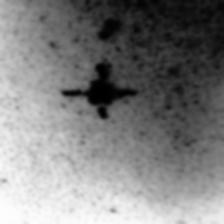Potentially Malignant Skin Tumors: (75, 73, 126, 115)
